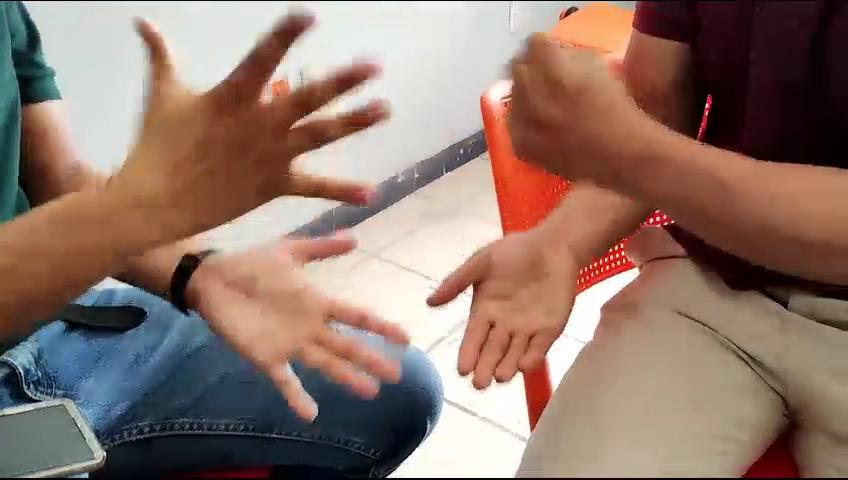Paper: (80, 0, 410, 278)
Stone: (499, 11, 712, 211)
